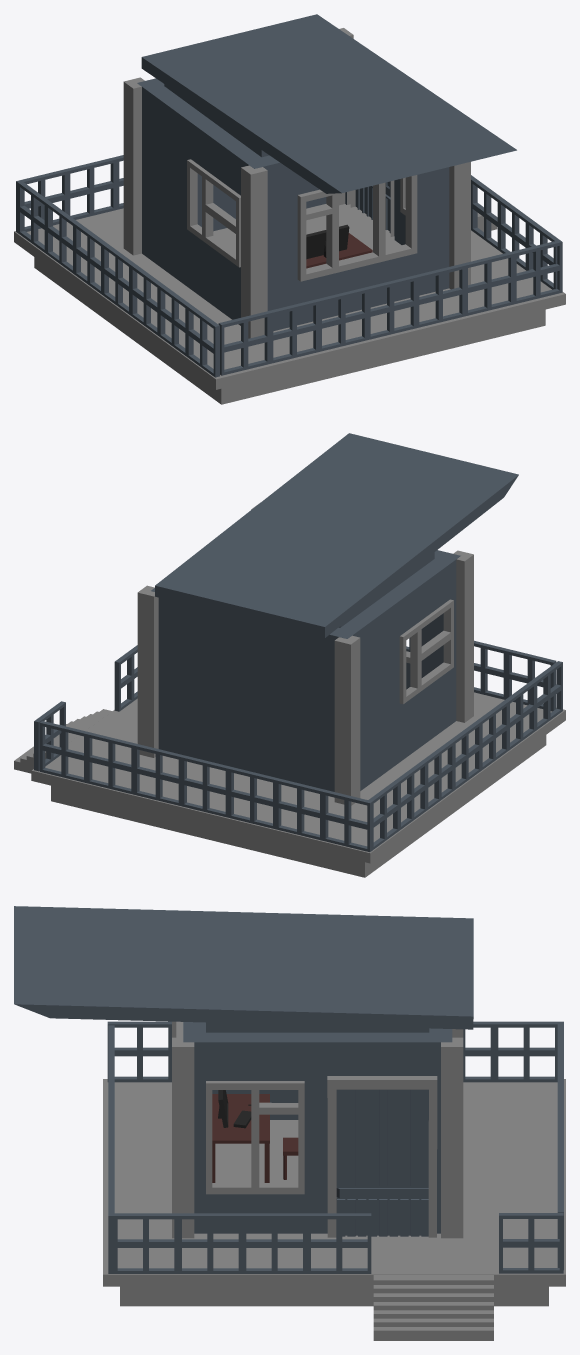
Rendered from budka.fbx.
The picture shows the model from 3 angles, top to bottom: view 1: azimuth 30°, elevation 25°; view 2: azimuth 150°, elevation 25°; view 3: azimuth 270°, elevation 25°; orthographic projection. The views are drawn at different scales.
Visible parts, largest first — view 1: budka_LP; view 2: budka_LP; view 3: budka_LP.
Boxes of the visible parts, x1,y1,x2,y2 form: budka_LP: [14, 14, 565, 404]; budka_LP: [14, 433, 565, 877]; budka_LP: [14, 906, 565, 1340].
Size of the model in its own units: 340 by 185 by 355.
